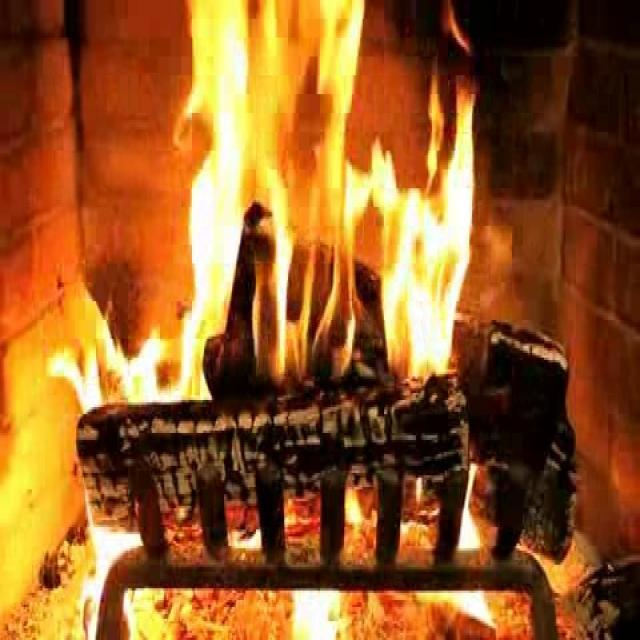Fire: (166, 0, 474, 400)
